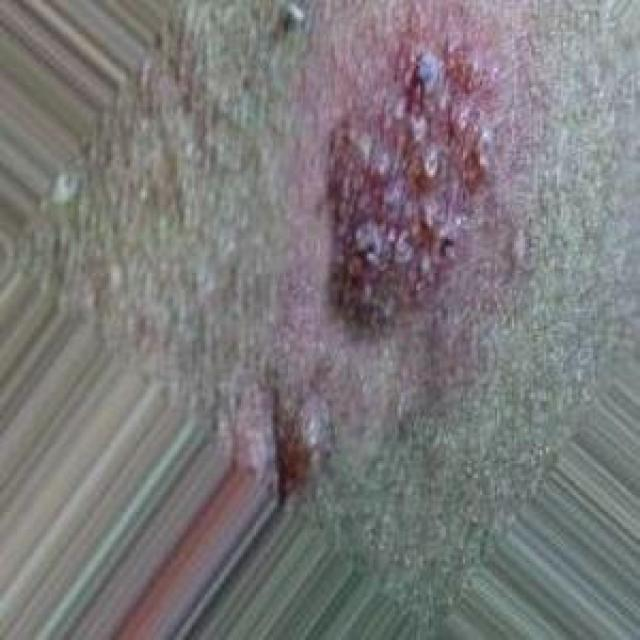Shingles: (310, 33, 505, 331)
